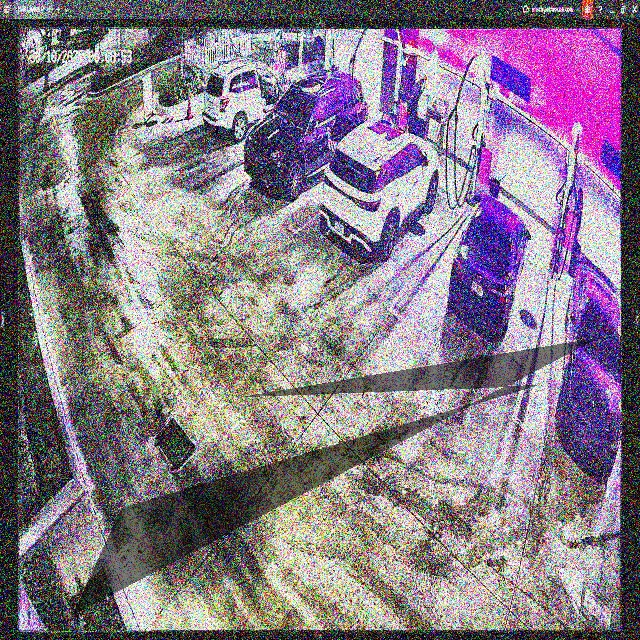Car: (321, 120, 440, 262), (243, 72, 368, 200), (450, 193, 531, 343)
